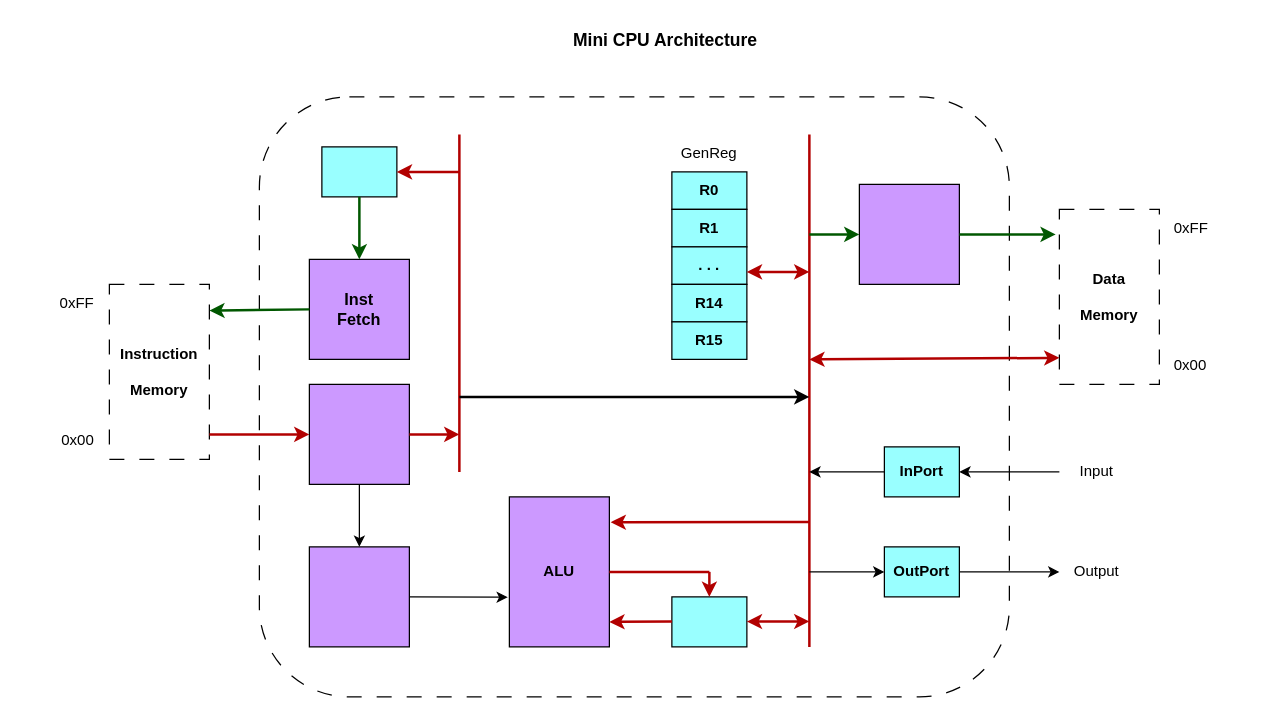
This 1268x719 diagram has some shape labels left out. The shapes that lost their labels are listed below. From the top down, each one's box as (x1, y1, x2, y2) in pixels, then its label:
(321, 146, 397, 197): PC
(858, 183, 959, 284): Data Fetch
(308, 383, 409, 484): Inst Decode
(308, 546, 409, 647): Control
(671, 596, 747, 647): AC
